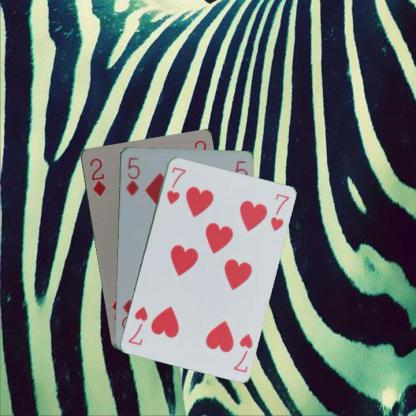2d: (87, 156, 107, 198)
5d: (123, 154, 141, 196)
7h: (231, 331, 254, 373), (164, 164, 187, 205)
